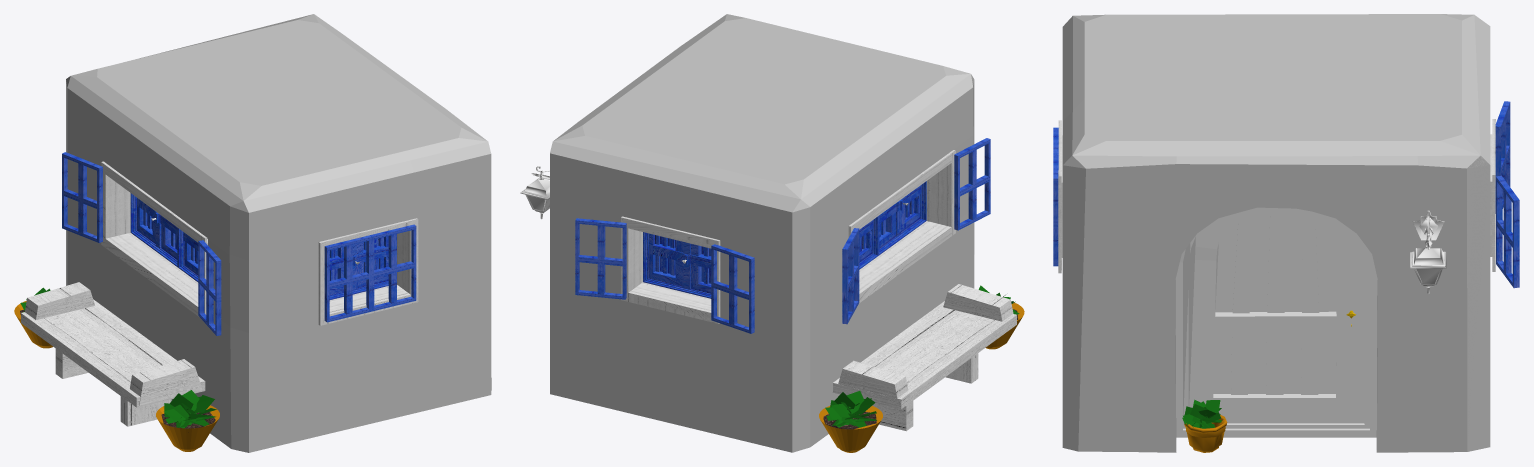
File: level1 - remastered.fbx
3 renders of one model, left to right at view 1: azimuth 30°, elevation 25°; view 2: azimuth 150°, elevation 25°; view 3: azimuth 270°, elevation 25°, orthographic. The views are drawn at different scales.
Visible parts, largest first — view 1: House, Window_back, Bench#2, Window_left, leaf_1.002, Vase.002; view 2: House, Bench#2, Window_right, Window_back, leaf_1.001, Vase, Lamp.002; view 3: House, Door, Window_right, Flower_front, Lamp.002, Window_left.
Part boxes in pixels (left/top/right/bottom): House: left=66, top=14, right=491, bottom=452; Window_back: left=62, top=152, right=221, bottom=335; Bench#2: left=21, top=282, right=205, bottom=426; Window_left: left=318, top=218, right=418, bottom=325; leaf_1.002: left=164, top=390, right=216, bottom=428; Vase.002: left=156, top=405, right=219, bottom=451; House: left=550, top=14, right=974, bottom=452; Bench#2: left=832, top=284, right=1016, bottom=431; Window_right: left=575, top=216, right=754, bottom=333; Window_back: left=842, top=138, right=990, bottom=324; leaf_1.001: left=825, top=391, right=876, bottom=427; Vase: left=819, top=405, right=882, bottom=452; Lamp.002: left=520, top=166, right=549, bottom=219; House: left=1062, top=14, right=1490, bottom=452; Door: left=1175, top=207, right=1377, bottom=437; Window_right: left=1490, top=101, right=1519, bottom=288; Flower_front: left=1182, top=399, right=1227, bottom=452; Lamp.002: left=1410, top=210, right=1446, bottom=294; Window_left: left=1053, top=120, right=1062, bottom=273.
Bounding box in the file's own units: 103 × 69.02 × 96.39.
